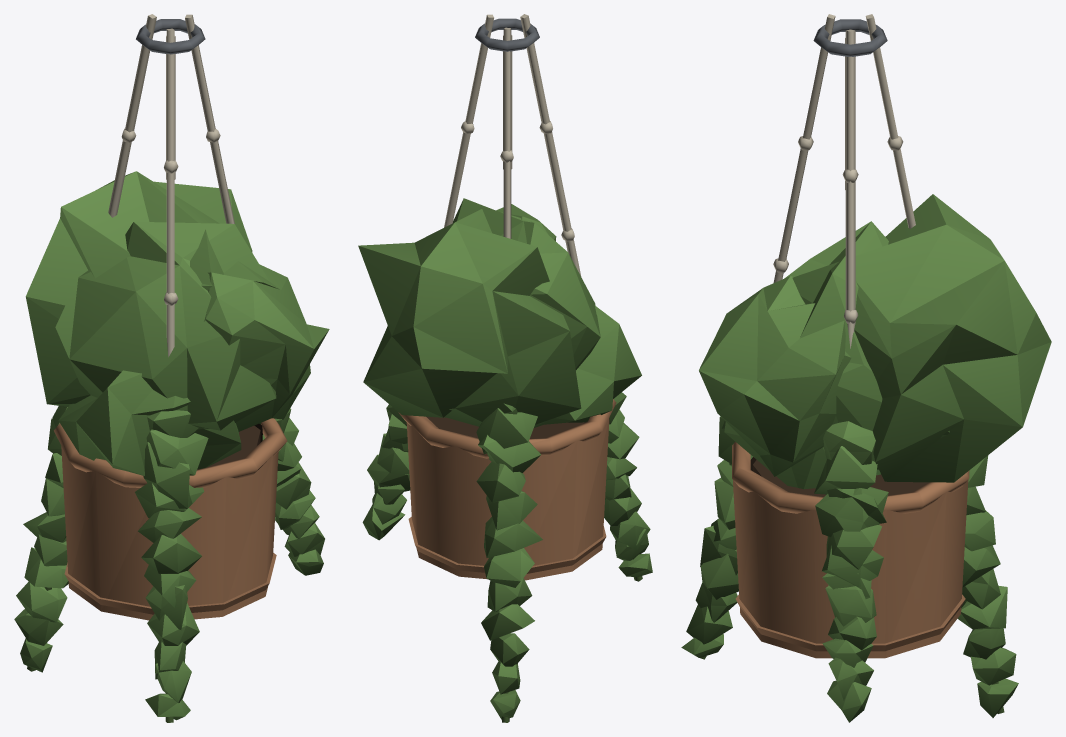
File: office_hanging_plant.glb
3 views of the same model, side by side, from view 1: azimuth 30°, elevation 25°; view 2: azimuth 150°, elevation 25°; view 3: azimuth 270°, elevation 25° (orthographic). The views are drawn at different scales.
Visible parts, largest first — view 1: office_hanging_plant; view 2: office_hanging_plant; view 3: office_hanging_plant.
Part boxes in pixels (bbox=[...]): office_hanging_plant: bbox=[14, 14, 329, 722]; office_hanging_plant: bbox=[358, 14, 652, 722]; office_hanging_plant: bbox=[681, 14, 1051, 722].
Size of the model in its own units: 0.2246 by 0.5764 by 0.2652.
